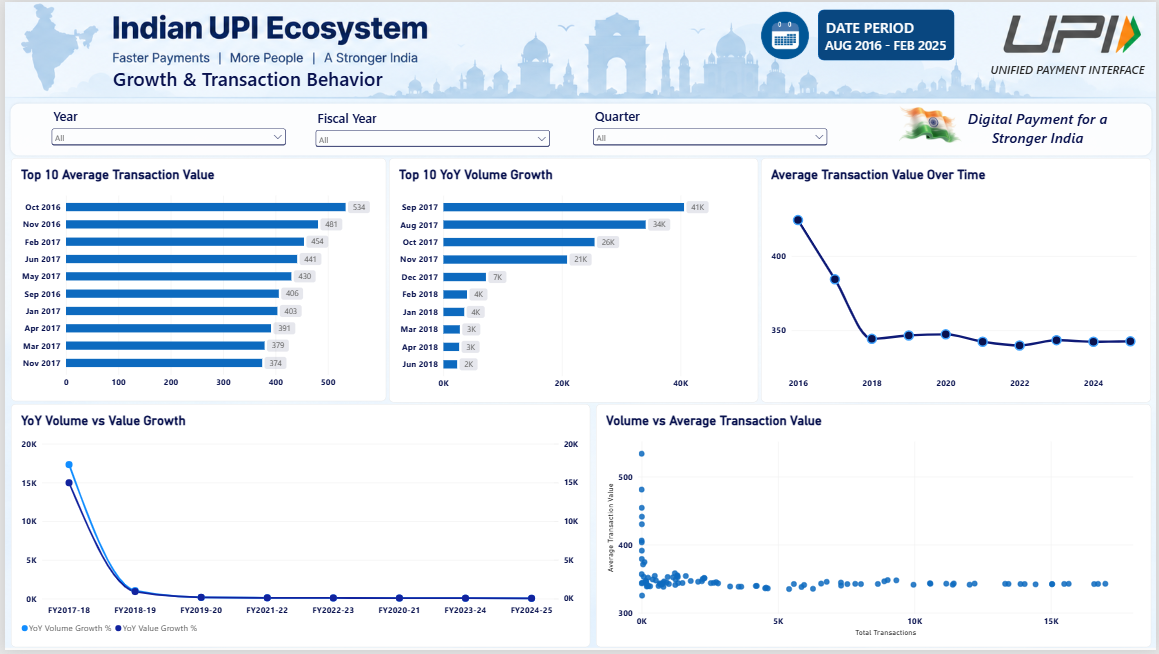

The dashboard page shown, as its layout file describes it:
{"tool":"powerbi","page":{"name":"Page 2","canvas":[1920,1080],"ordinal":1},"visuals":[{"type":"shape","box":[5,165,1910,95],"z":0},{"type":"slicer","fields":{"Values":["DateTable.Year"]},"box":[72.5,175,400,90],"z":1000},{"type":"slicer","fields":{"Values":["DateTable.Quarter"]},"box":[975,175,400,90],"z":2000},{"type":"slicer","fields":{"Values":["DateTable.Fiscal Year"]},"box":[512.5,177.5,400,90],"z":3000},{"type":"image","box":[1442.5,155,200,112.5],"z":4000},{"type":"textbox","box":[1642.5,100,278,40],"z":5000},{"type":"textbox","box":[1582.5,177.5,277.5,82.5],"z":6000},{"type":"textbox","box":[180,105,532.5,50],"z":7000},{"type":"image","box":[1245,0,110,115],"z":8000},{"type":"shape","box":[1355,12.5,227.5,85],"z":9000},{"type":"textbox","box":[1355,25,227.5,62.5],"z":10000},{"type":"clusteredBarChart","title":"Top 10 YoY Volume Growth","fields":{"Category":["DateTable.Year Month"],"Y":["MeasureTable.YoY Volume Growth %"]},"box":[640,260,615,407.5],"z":11000},{"type":"lineChart","title":"YoY Volume vs Value Growth","fields":{"Category":["DateTable.Fiscal Year"],"Y":["MeasureTable.YoY Volume Growth"],"Y2":["MeasureTable.YoY Value Growth"]},"box":[10,670,965,405],"z":12000},{"type":"lineChart","title":"Average Transaction Value Over Time","fields":{"Category":["DateTable.Year"],"Y":["MeasureTable.Average Transaction Value"]},"box":[1260,260,650,407],"z":13000},{"type":"clusteredBarChart","title":"Top 10 Average Transaction Value","fields":{"Category":["DateTable.Year Month"],"Y":["MeasureTable.Average Transaction Value"]},"box":[10,260,625,405],"z":14000},{"type":"scatterChart","title":"Volume vs Average Transaction Value","fields":{"Category":["DateTable.Year Month"],"X":["MeasureTable.Total Transactions"],"Y":["MeasureTable.Average Transaction Value"]},"box":[985,670,925,405],"z":15000}]}

Visuals, with their boxes in screenshot pixels (x1, y1, x2, y2), scaled from the page's 1920x1080 canvas onto the 1159x654 screenshot:
shape: [3,100,1156,157]
slicer - DateTable.Year: [44,106,285,160]
slicer - DateTable.Quarter: [589,106,830,160]
slicer - DateTable.Fiscal Year: [309,107,551,162]
image: [871,94,991,162]
textbox: [991,61,1158,85]
textbox: [955,107,1123,157]
textbox: [109,64,430,94]
image: [752,0,818,70]
shape: [818,8,955,59]
textbox: [818,15,955,53]
"Top 10 YoY Volume Growth" clusteredBarChart: [386,157,758,404]
"YoY Volume vs Value Growth" lineChart: [6,406,589,651]
"Average Transaction Value Over Time" lineChart: [761,157,1153,404]
"Top 10 Average Transaction Value" clusteredBarChart: [6,157,383,403]
"Volume vs Average Transaction Value" scatterChart: [595,406,1153,651]
